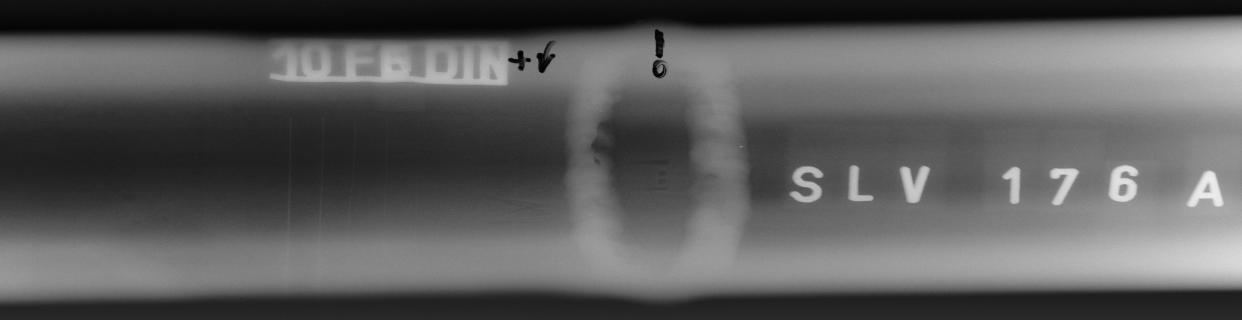FF: (586, 101, 626, 181), (698, 165, 732, 193)
